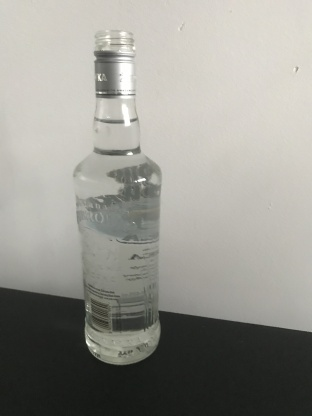nakretka: (92, 27, 138, 100)
